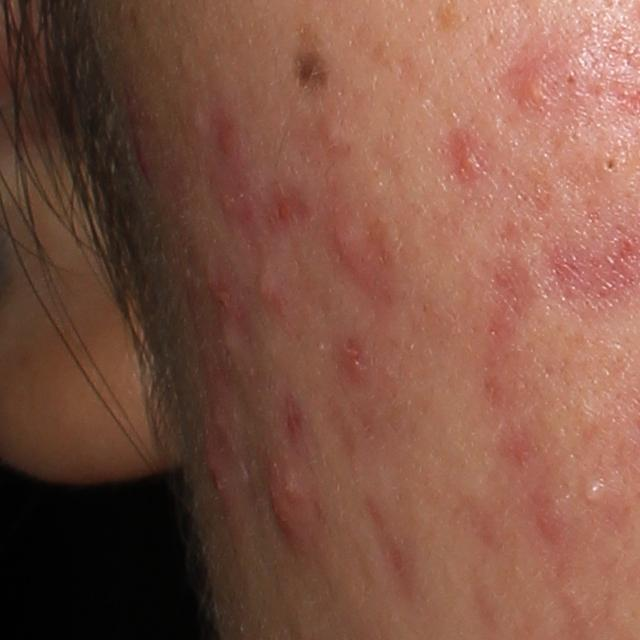atrophic_scar: (465, 252, 544, 353)
comedo: (596, 146, 623, 178), (562, 65, 582, 90)
nevus: (291, 38, 333, 100)
papule: (328, 199, 391, 296), (258, 448, 311, 544), (505, 47, 561, 118), (200, 431, 237, 511), (447, 124, 495, 185), (250, 253, 284, 313)
